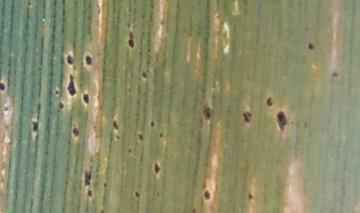tarspot: (65, 72, 77, 97), (276, 109, 288, 131), (241, 110, 253, 123), (201, 104, 211, 119), (152, 161, 162, 175), (127, 31, 135, 48), (83, 169, 91, 186), (84, 52, 92, 66), (65, 52, 73, 66), (30, 119, 38, 133), (111, 118, 119, 132), (81, 93, 91, 104), (71, 127, 81, 138), (202, 189, 211, 200), (136, 132, 145, 142), (140, 70, 149, 80), (265, 95, 273, 106), (57, 101, 66, 110), (306, 42, 314, 51), (1, 80, 7, 92), (86, 188, 93, 198), (331, 70, 339, 77), (246, 192, 253, 200), (133, 190, 141, 197), (2, 105, 9, 113), (53, 88, 60, 96), (102, 180, 108, 189), (126, 147, 133, 154), (114, 133, 120, 141), (191, 206, 197, 213), (149, 121, 155, 127), (158, 132, 163, 138), (98, 209, 104, 213)
